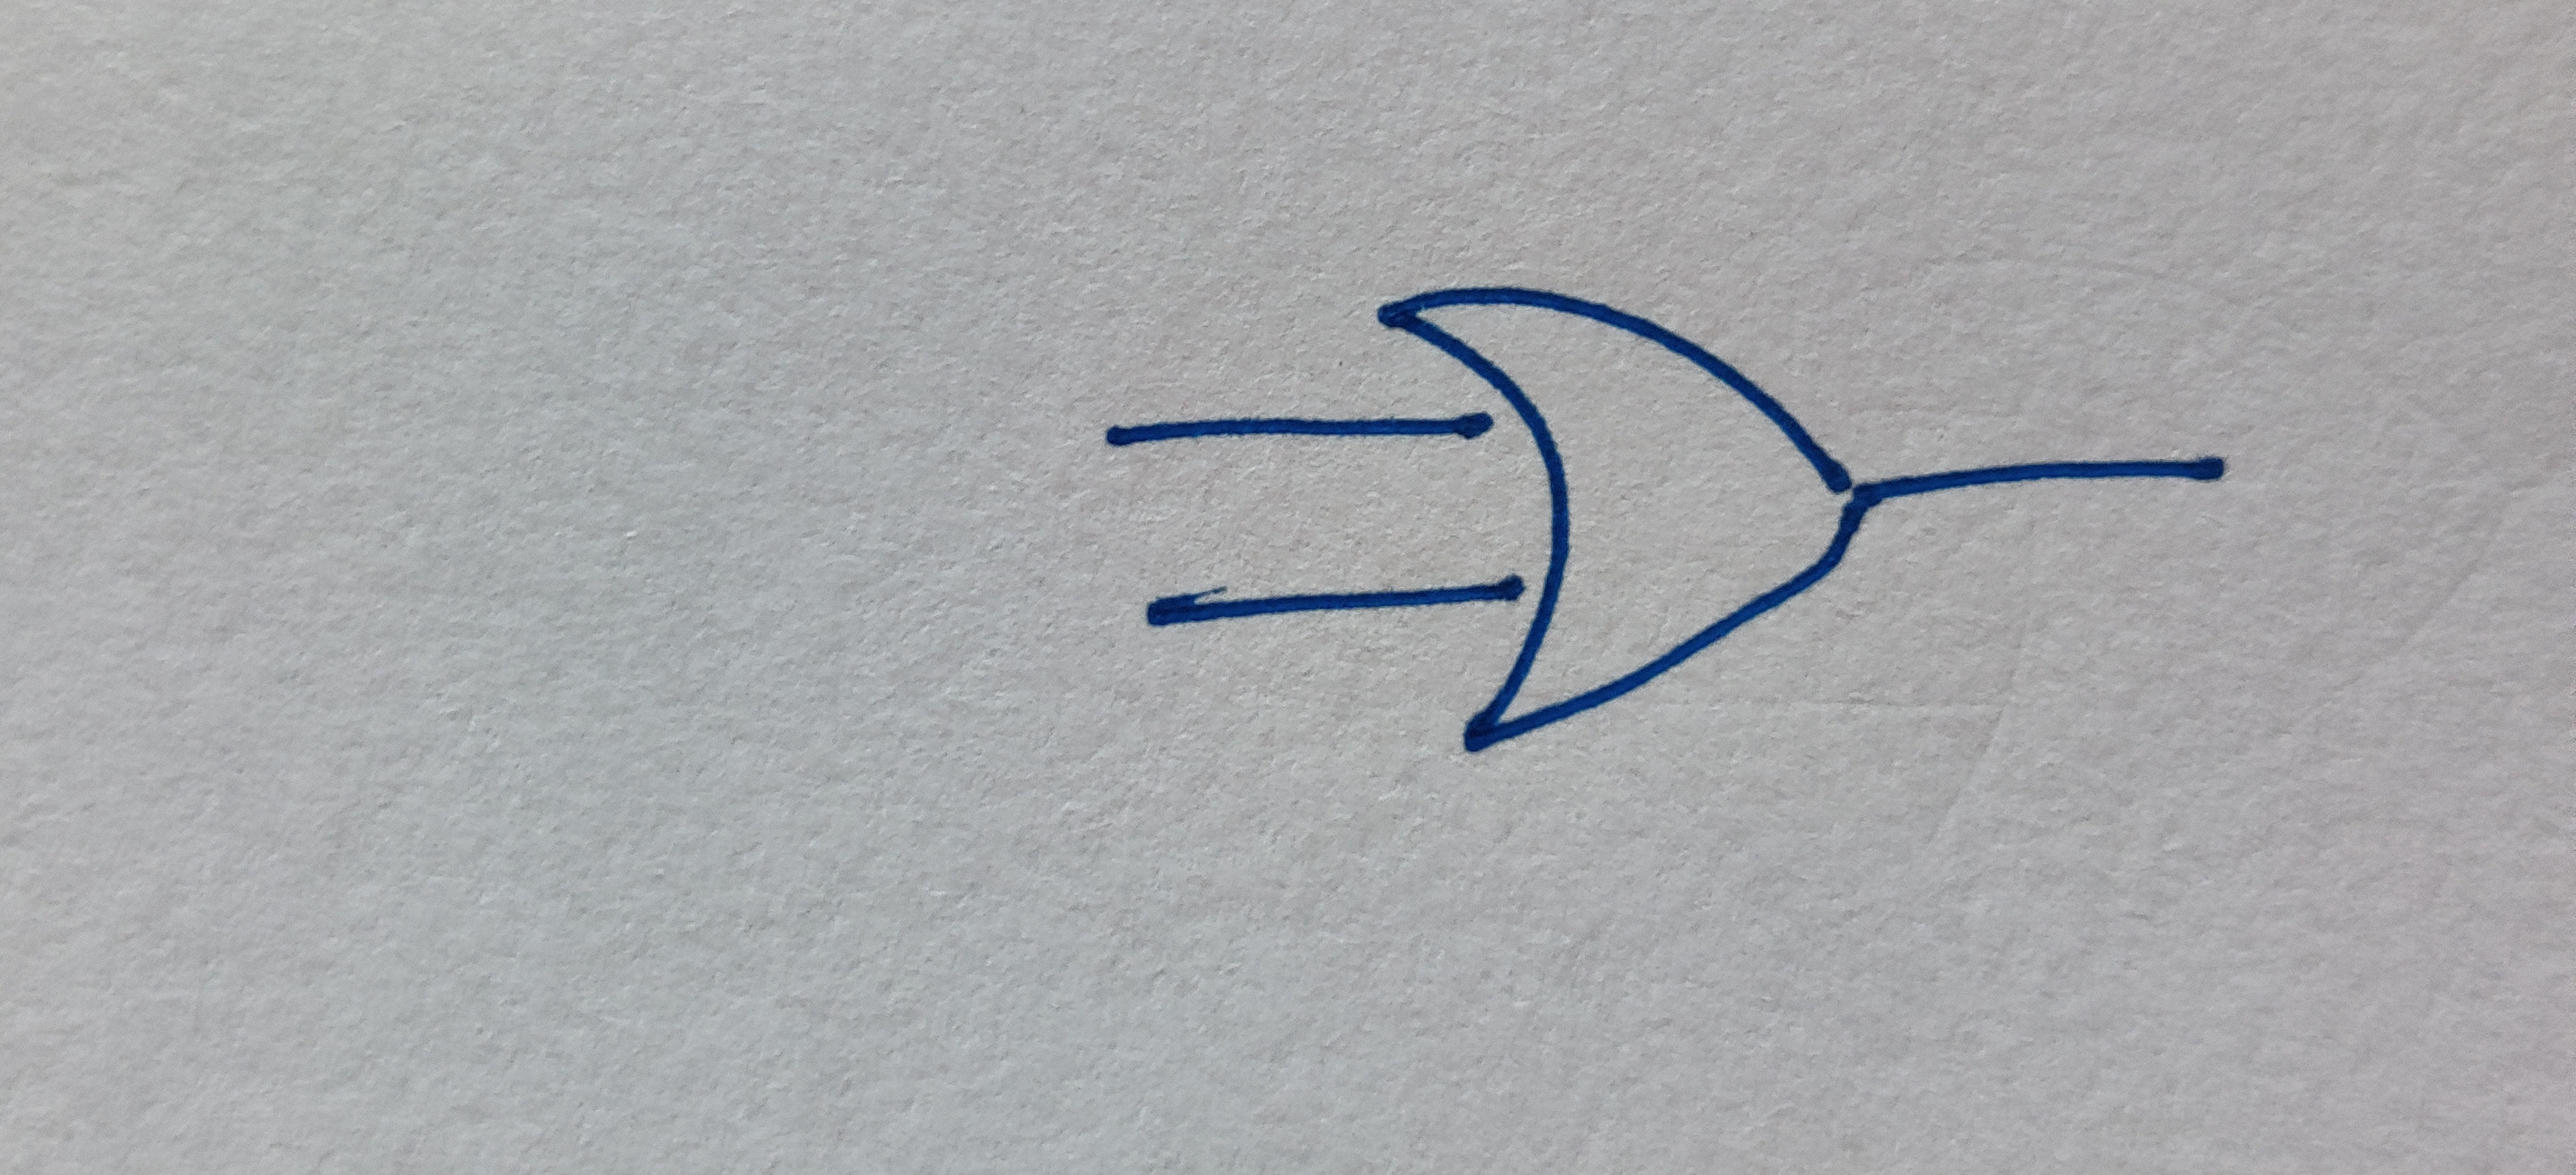or: (1380, 289, 1856, 743)
